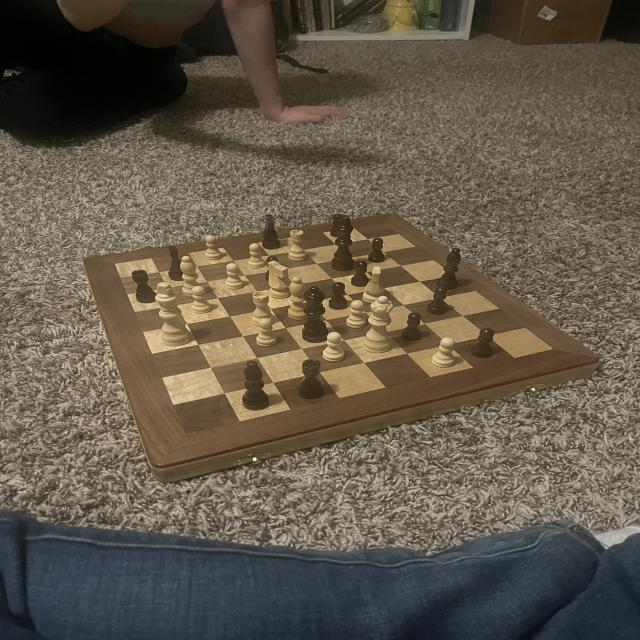bishop: (240, 359, 272, 411), (436, 245, 464, 291)
black-bishop: (330, 214, 358, 274)
black-king: (260, 214, 284, 252), (165, 244, 188, 282)
black-knight: (470, 326, 498, 360), (399, 311, 428, 343), (326, 281, 352, 310), (425, 287, 451, 315), (349, 260, 372, 290), (366, 238, 388, 262), (264, 255, 282, 283), (327, 213, 345, 237)
black-pawn: (301, 285, 330, 345)
black-queen: (295, 358, 329, 402), (130, 268, 162, 306)
black-rook: (286, 276, 314, 322), (179, 254, 204, 298)
white-bishop: (155, 280, 193, 347)
white-king: (266, 260, 295, 300), (361, 265, 389, 306)
white-knight: (429, 336, 457, 368), (253, 317, 280, 349), (322, 331, 348, 363), (343, 299, 370, 329), (187, 285, 213, 314), (246, 240, 267, 271), (222, 264, 247, 290), (205, 234, 224, 261)
white-pawn: (363, 294, 396, 356)
white-queen: (250, 290, 278, 329), (287, 228, 309, 262)
